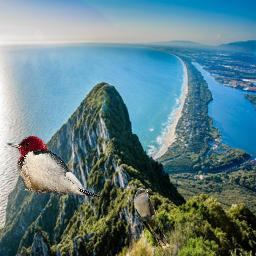Cuckoo: (134, 189, 170, 249)
Woodpecker: (6, 136, 102, 198)
